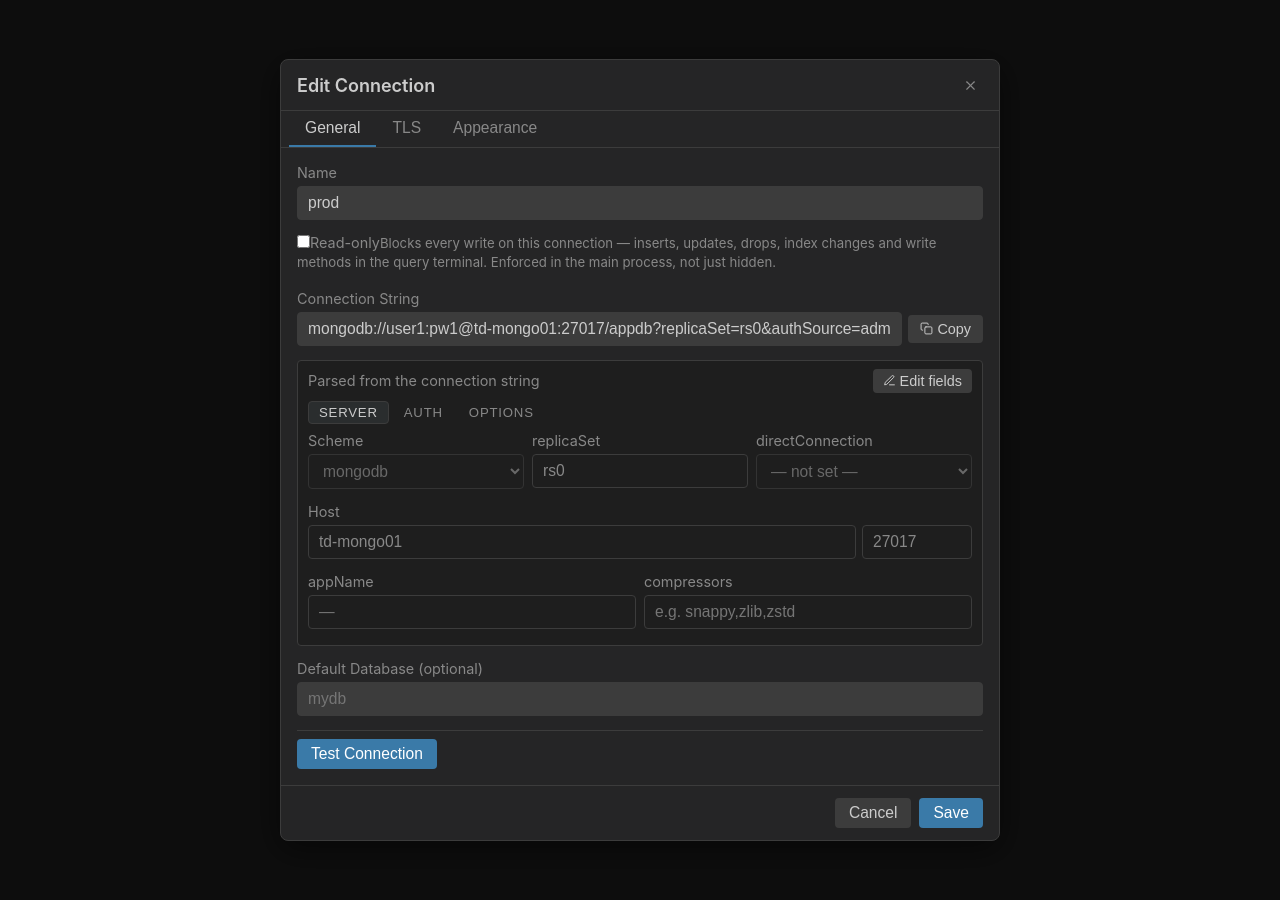
Test: ConnectionModal — connection string breakdown › copies the whole connection string
Click the button "Copy" at x=946, y=329, box [908,315,983,343]
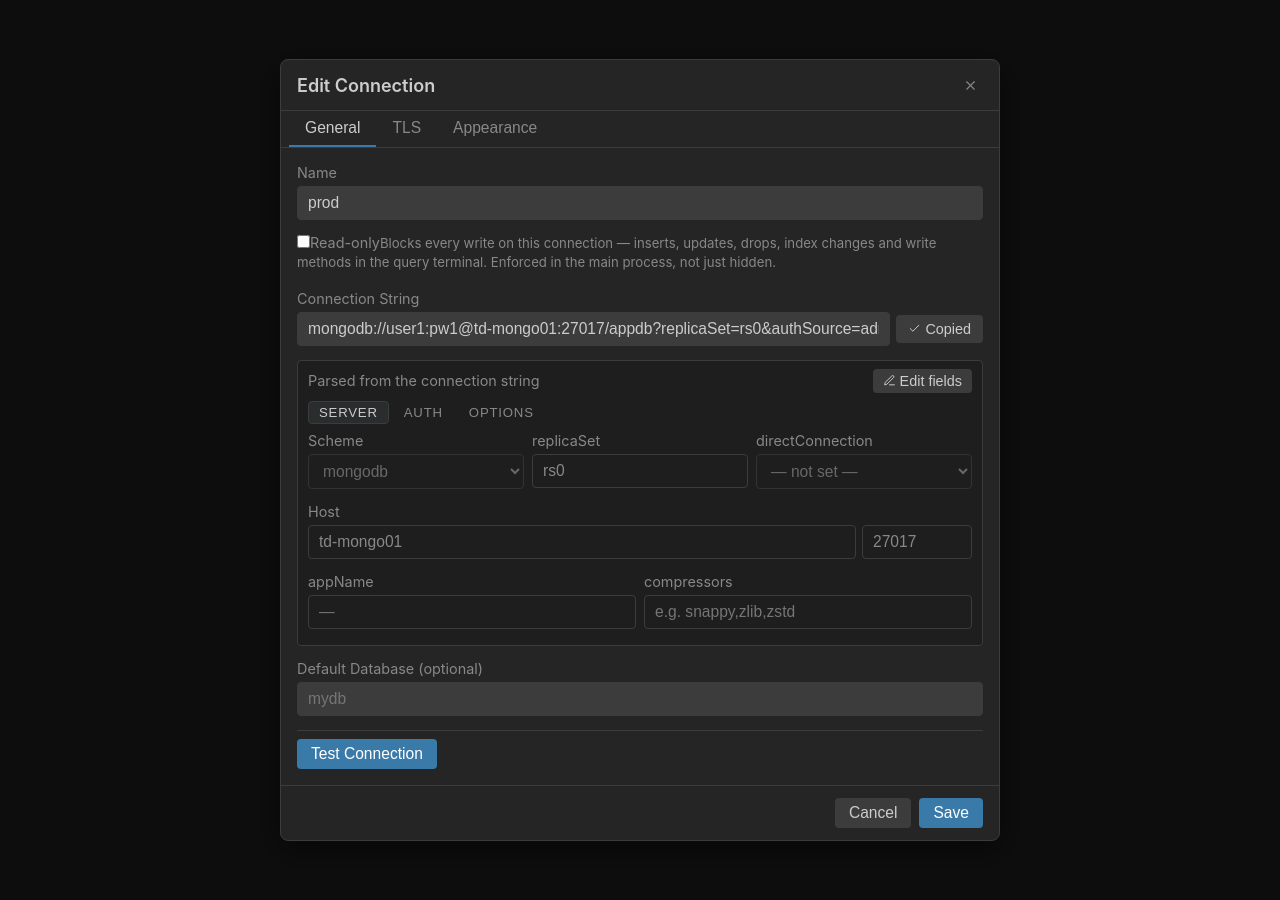
Expected: the button "Copied" is shown, [896,315,983,343]
